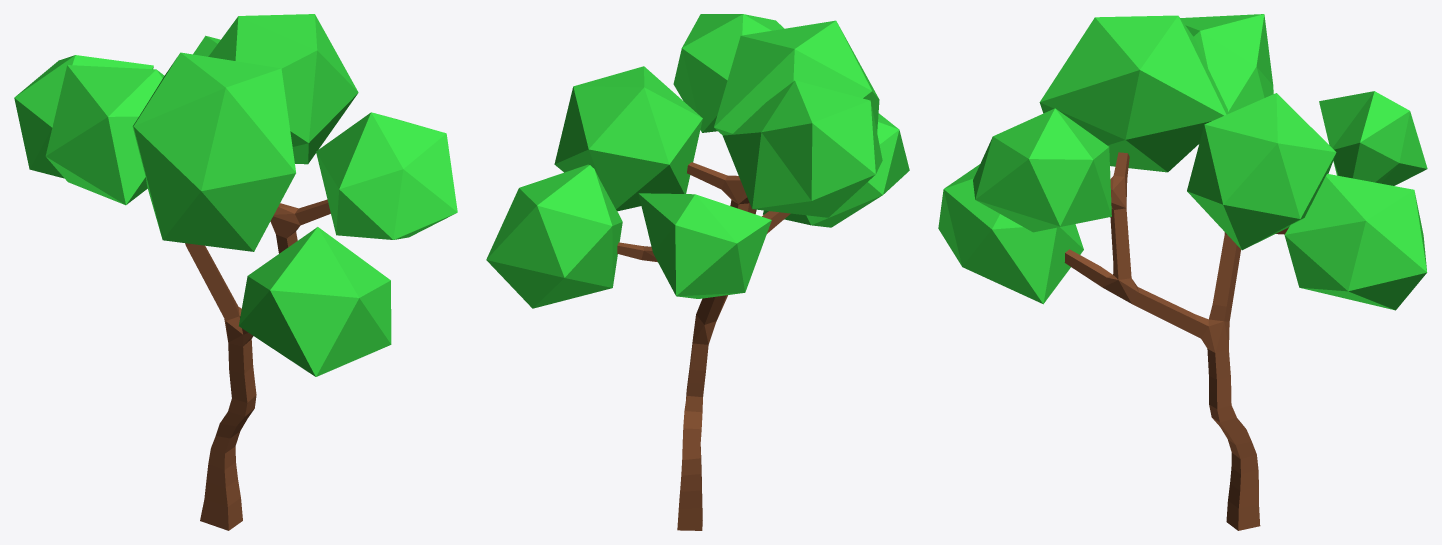
The model's file is tree2.glb.
3 renders of one model, left to right at view 1: azimuth 30°, elevation 25°; view 2: azimuth 150°, elevation 25°; view 3: azimuth 270°, elevation 25°, orthographic. The views are drawn at different scales.
Visible parts, largest first — view 1: Plane.057; view 2: Plane.057; view 3: Plane.057.
Part boxes in pixels (x1,y1,x2,y2): Plane.057: (14, 14, 457, 530); Plane.057: (486, 14, 909, 530); Plane.057: (938, 14, 1427, 530).
Bounding box in the file's own units: 5.97 × 8.89 × 8.33.
